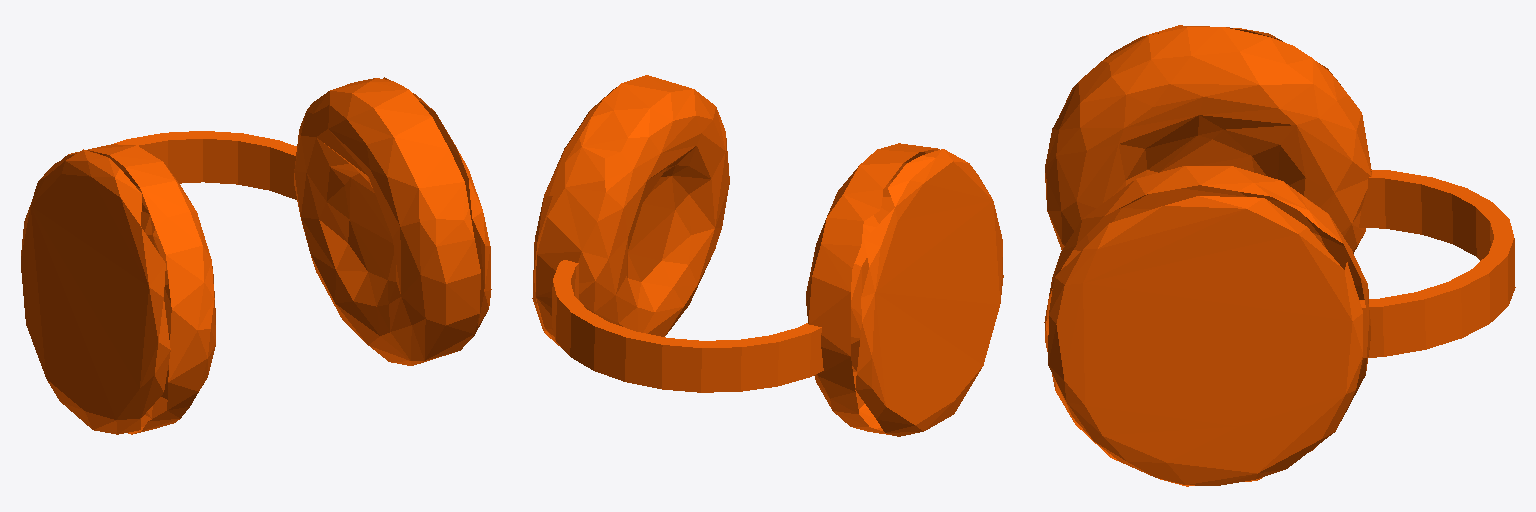
URDF robot description (Earphone_10112_band):
<?xml version="1.0" ?>
<robot name="Earphone_10112_band">
   <material name="obj_color">
      <color rgba="1.0 0.423529411765 0.0392156862745 1.0"/>
   </material>
   <link name="top">
      <inertial>
         <origin rpy="1.707215427886892e-05 5.623008016822318e-05 6.953528037618926e-05" xyz="-0.0004060026956643662 0.05893913903097426 -0.002467814453483438"/>
         <mass value="0.07597266662038631"/>
         <inertia ixx="1.753754960101778e-05" ixy="-4.172283544696427e-06" ixz="-8.740619491980853e-07" iyy="5.578375155240099e-05" iyz="-3.123856932133983e-07" izz="6.951621366986261e-05"/>
      </inertial>
      <visual>
         <origin rpy="0 0 0" xyz="0 0 0"/>
         <geometry>
            <mesh filename="top_watertight_tiny.stl" scale="1 1 1"/>
         </geometry>
         <material name="obj_color"/>
      </visual>
      <collision>
         <origin rpy="0 0 0" xyz="0 0 0"/>
         <geometry>
            <mesh filename="top_watertight_tiny.obj" scale="1 1 1"/>
         </geometry>
      </collision>
   </link>
   <link name="bottom">
      <inertial>
         <origin rpy="0.001443440138104295 0.00247912145820226 0.00248258133676147" xyz="0.0007568821538701695 -0.005374747182965313 -0.0001593247526195491"/>
         <mass value="1.110770986958857"/>
         <inertia ixx="0.00144362708012566" ixy="6.986785145113028e-06" ixz="-1.20397472044483e-05" iyy="0.002482524551437714" iyz="-1.029274160882932e-07" izz="0.002478991301504651"/>
      </inertial>
      <visual>
         <origin rpy="0 0 0" xyz="0 0 0"/>
         <geometry>
            <mesh filename="bottom_watertight_tiny.stl" scale="1 1 1"/>
         </geometry>
         <material name="obj_color"/>
      </visual>
      <collision>
         <origin rpy="0 0 0" xyz="0 0 0"/>
         <geometry>
            <mesh filename="bottom_watertight_tiny.obj" scale="1 1 1"/>
         </geometry>
      </collision>
   </link>
   <link name="world"/>
   <joint name="world_to_base" type="fixed">
      <origin xyz="0 0 0"/>
      <axis xyz="0 0 0"/>
      <parent link="world"/>
      <child link="bottom"/>
   </joint>
   <joint name="rotation" type="revolute">
      <origin xyz="0 0 0"/>
      <axis xyz="0 0 -1"/>
      <parent link="bottom"/>
      <child link="top"/>
      <dynamics damping="1.0" friction="1.0"/>
      <limit effort="0.1" velocity="0.1" lower="0" upper="0.001"/>
   </joint>
</robot>

--- Facts derived from the render (not from the file) ---
3 views of the same robot in one strip: view 1: azimuth 30°, elevation 25°; view 2: azimuth 150°, elevation 25°; view 3: azimuth 270°, elevation 25° (orthographic).
Robot: Earphone_10112_band — 3 links, 2 joints (1 revolute, 1 fixed); root link world; default pose: every joint at zero.
Links seen in each view (by area): view 1: bottom, top; view 2: bottom, top; view 3: bottom, top.
Link boxes in pixels (x1,y1,x2,y2): bottom: (21, 77, 491, 434); top: (114, 131, 296, 199); bottom: (532, 75, 1003, 436); top: (552, 260, 823, 392); bottom: (1044, 25, 1371, 486); top: (1359, 170, 1515, 357).
Size in the robot's own frame: 0.1457 by 0.147 by 0.1035 metres.
Meshes: 2 distinct files referenced, 2 mesh visuals loaded (2 binary STL).